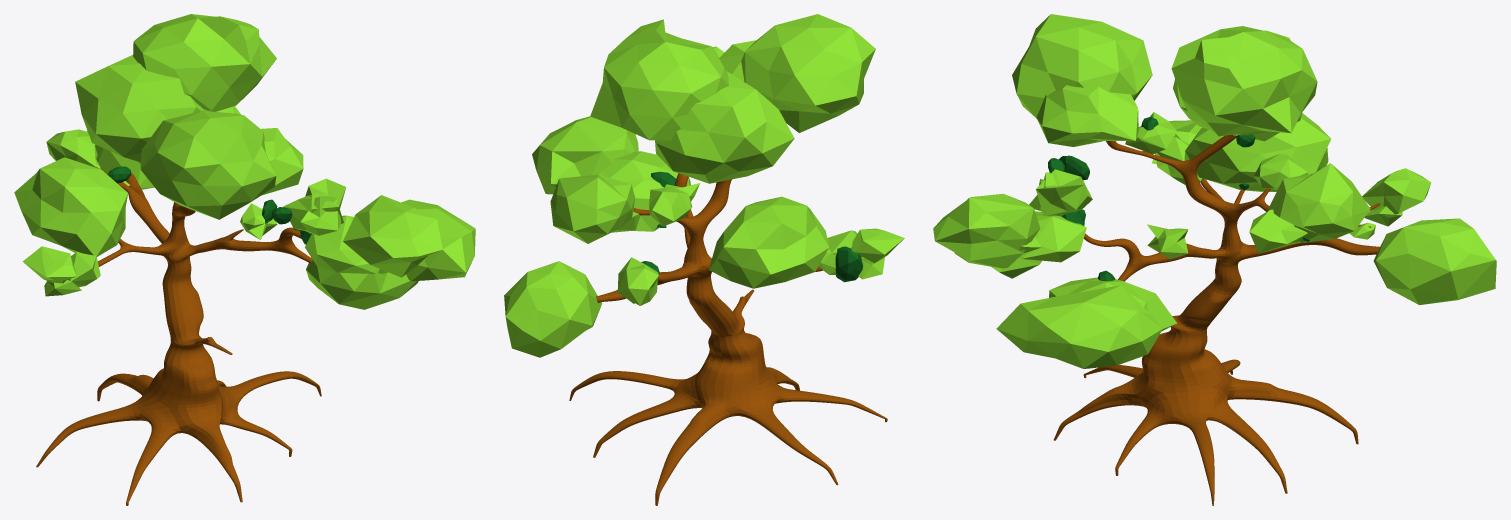
Rendered from Tree_version2.fbx.
3 renders of one model, left to right at view 1: azimuth 30°, elevation 25°; view 2: azimuth 150°, elevation 25°; view 3: azimuth 270°, elevation 25°, orthographic. The views are drawn at different scales.
Visible parts, largest first — view 1: hojas, hojas medio; view 2: hojas, hojas medio; view 3: hojas, hojas medio.
Part boxes in pixels (box(x1,y1,x2,y2)): hojas: box(14, 14, 475, 505); hojas medio: box(107, 166, 311, 244); hojas: box(504, 14, 904, 505); hojas medio: box(641, 171, 862, 282); hojas: box(933, 14, 1496, 505); hojas medio: box(1048, 116, 1309, 281).
Size of the model in its own units: 384 by 387 by 450.
